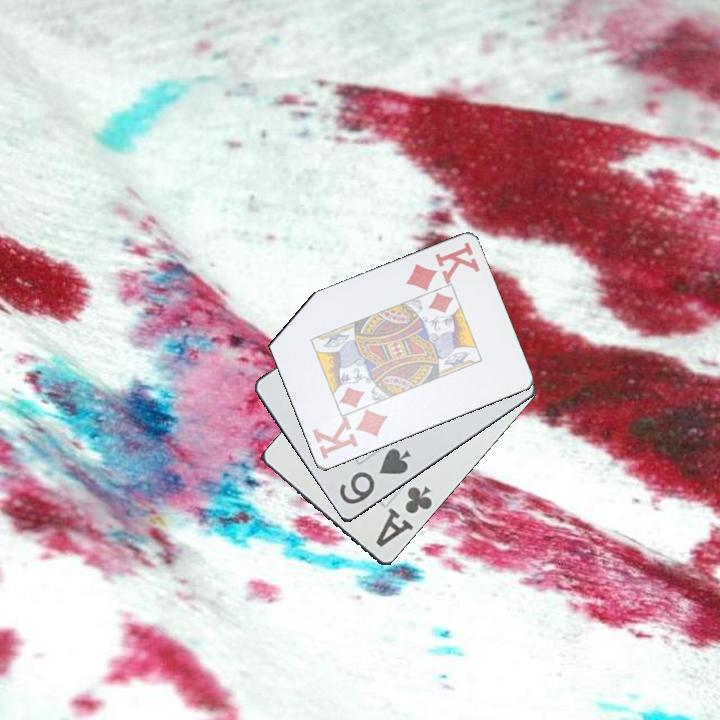6s: (335, 445, 415, 508)
Ac: (372, 482, 437, 551)
Kd: (309, 407, 391, 463), (401, 239, 482, 294)
